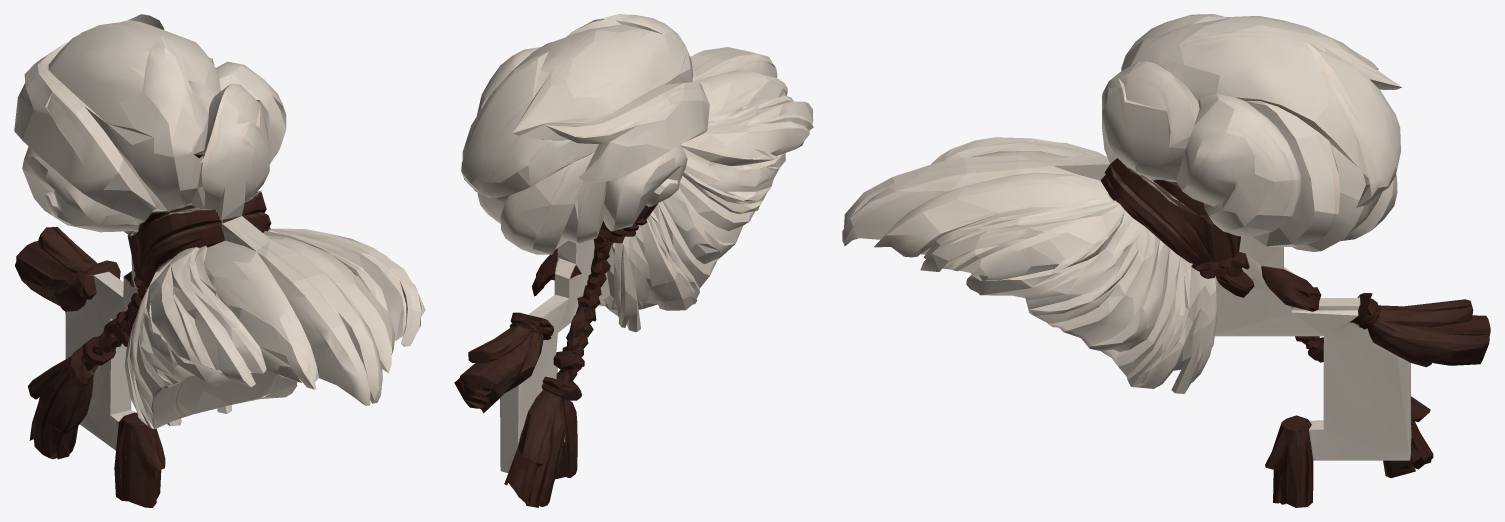
Rendered from thalor_f-chignon-femme-haut.glb.
The picture shows the model from 3 angles, left to right: view 1: azimuth 30°, elevation 25°; view 2: azimuth 150°, elevation 25°; view 3: azimuth 270°, elevation 25°; orthographic projection. The views are drawn at different scales.
Parts seen in each view (by area): view 1: geometry_0; view 2: geometry_0; view 3: geometry_0.
Part boxes in pixels (left/top/right/bottom): geometry_0: left=14, top=14, right=425, bottom=507; geometry_0: left=454, top=14, right=813, bottom=507; geometry_0: left=842, top=14, right=1490, bottom=507.
Size of the model in its own units: 0.7893 by 1.54 by 1.9.
1 material, 1 textured.
